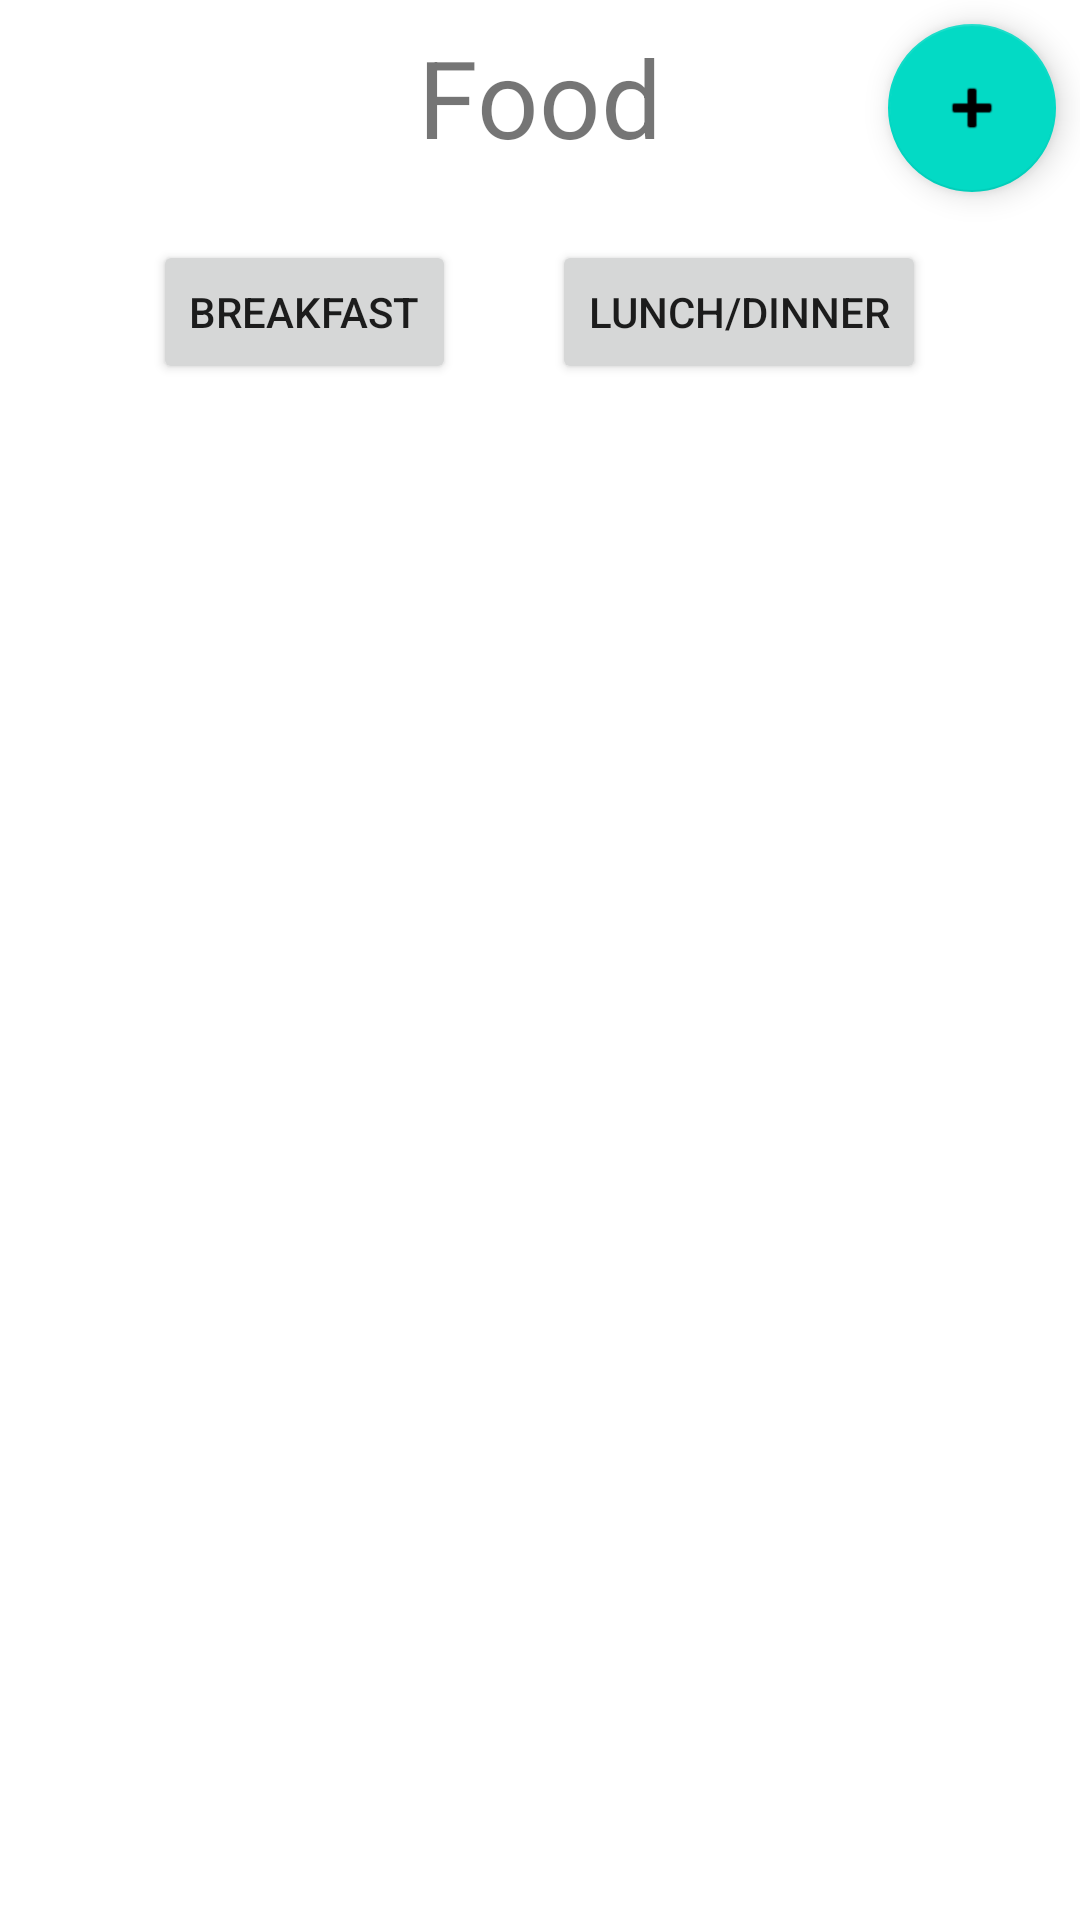

Icon bounding boxes for this 1080×1920 phone screenshot, format [left=x1, top=y1, right=x2, bottom=y2]:
add: [left=888, top=24, right=1056, bottom=192]
